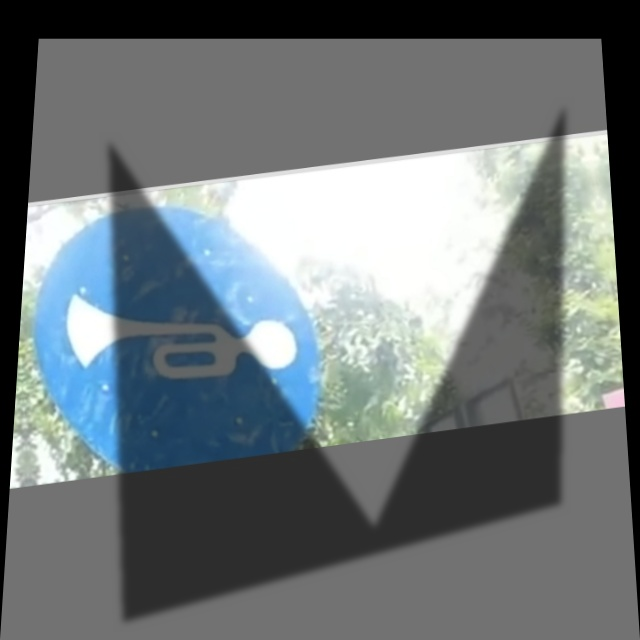Compulsory_Sound_Horn: (23, 191, 336, 473)
